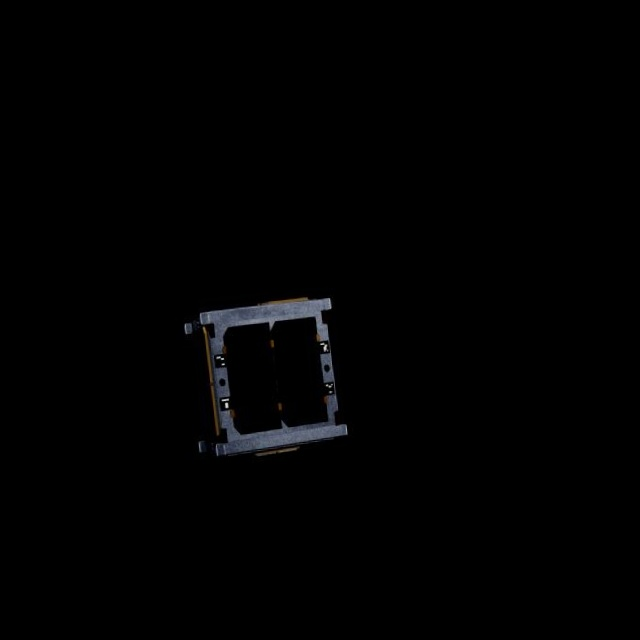satellite: (174, 287, 354, 484)
